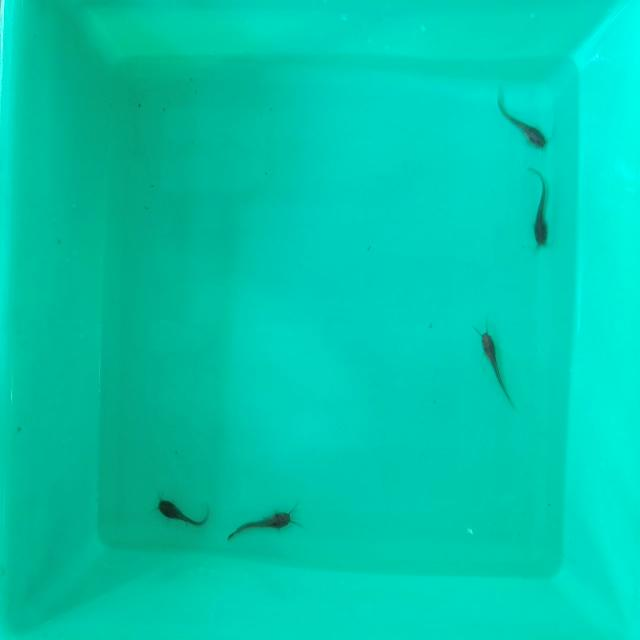lele: (493, 95, 549, 150), (224, 503, 296, 542), (480, 332, 508, 397), (155, 502, 211, 530), (533, 172, 553, 249)
